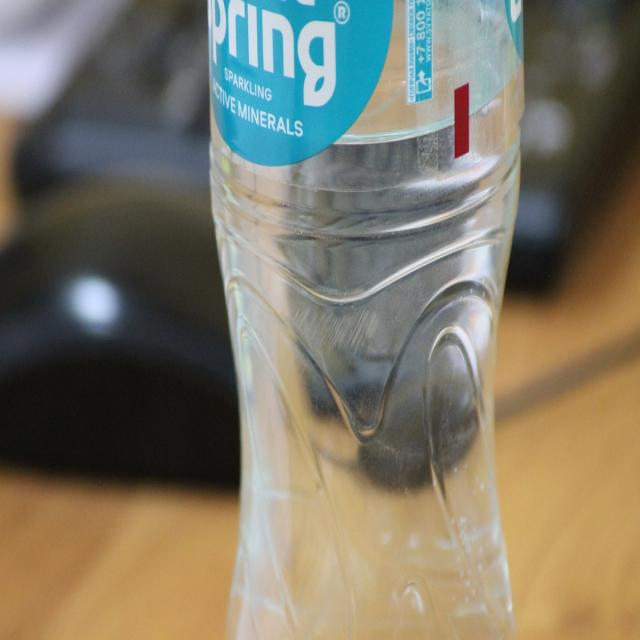plastic_bottle: (206, 1, 525, 638)
